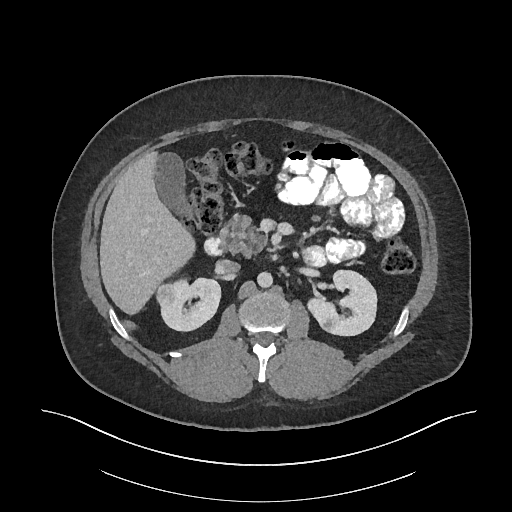Lesion: (322, 311, 336, 332)
